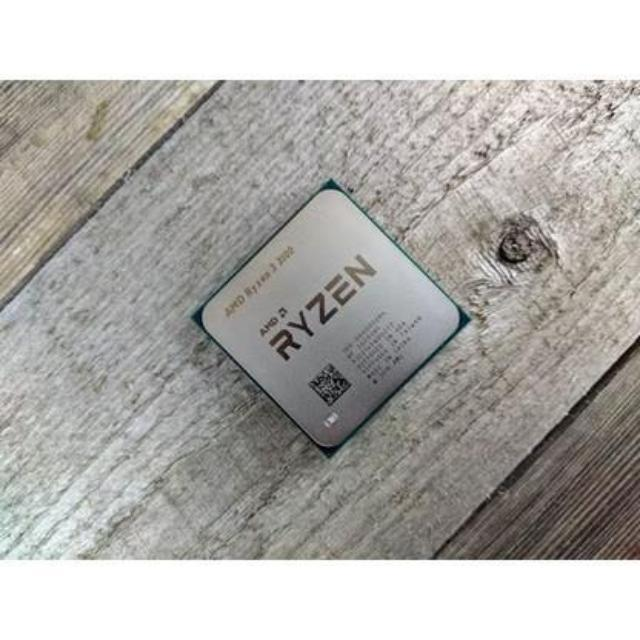CPU: (198, 184, 462, 452)
